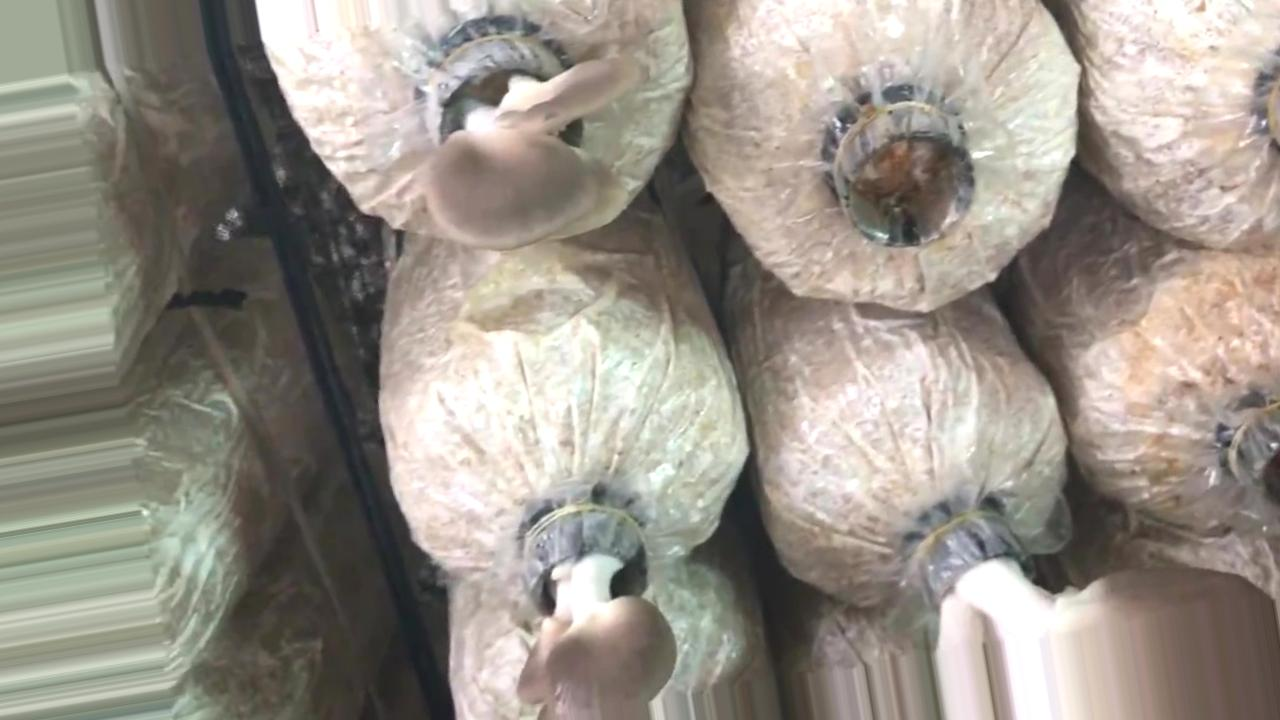nam: (913, 513, 1280, 720), (424, 27, 646, 253), (519, 487, 680, 720)
